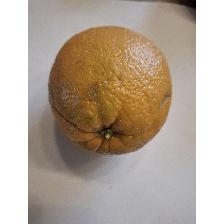Orange: (44, 20, 176, 160)
